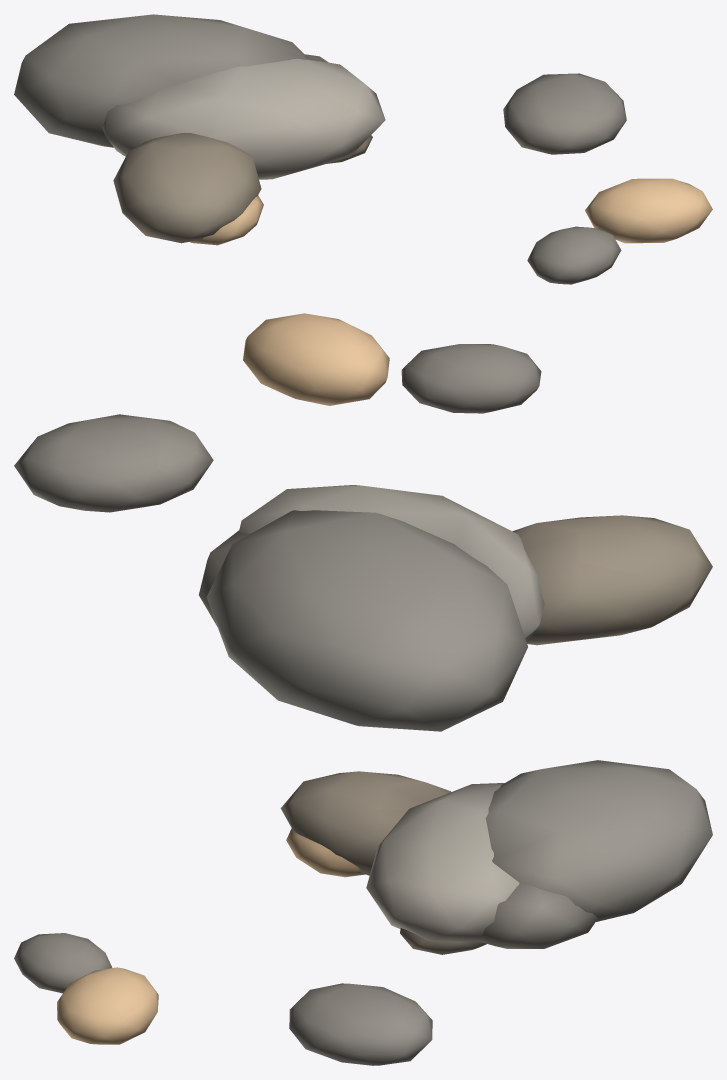
File: shore_gc_pebbles_b.glb
3 views of the same model, one above another, from view 1: azimuth 30°, elevation 25°; view 2: azimuth 150°, elevation 25°; view 3: azimuth 270°, elevation 25° (orthographic). The views are drawn at different scales.
Visible parts, largest first — view 1: shore_gc_pebbles_b; view 2: shore_gc_pebbles_b; view 3: shore_gc_pebbles_b.
Part boxes in pixels (bbox=[...]): shore_gc_pebbles_b: bbox=[14, 14, 712, 284]; shore_gc_pebbles_b: bbox=[14, 313, 712, 731]; shore_gc_pebbles_b: bbox=[14, 760, 712, 1065].
Size of the model in its own units: 2.84 by 0.5864 by 3.26.
